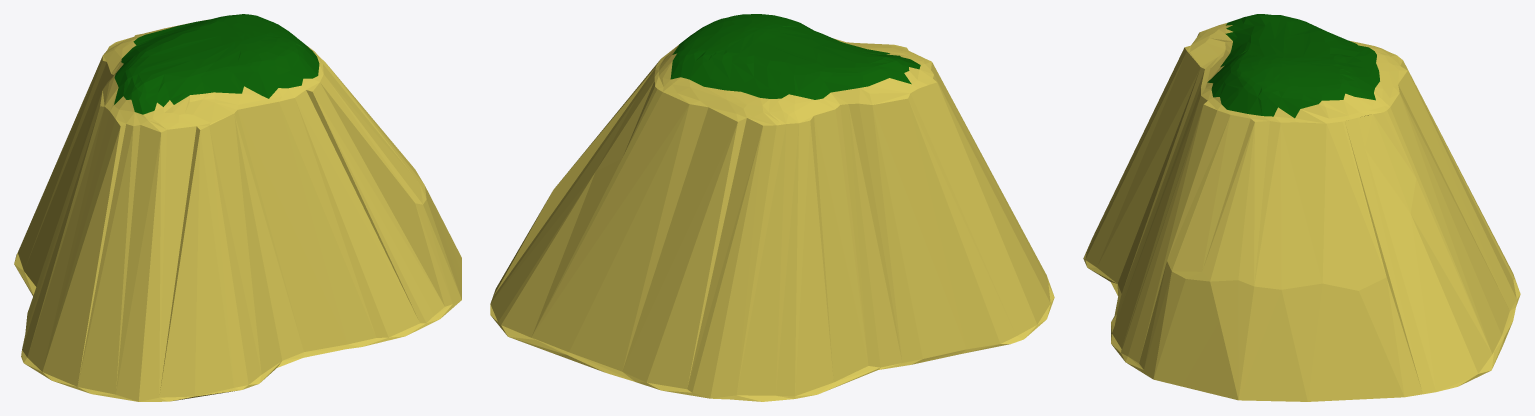
The model's file is Island6.FBX.
3 views of the same model, side by side, from view 1: azimuth 30°, elevation 25°; view 2: azimuth 150°, elevation 25°; view 3: azimuth 270°, elevation 25° (orthographic). The views are drawn at different scales.
Parts seen in each view (by area): view 1: Sphere008; view 2: Sphere008; view 3: Sphere008.
Part boxes in pixels (<box>): Sphere008: <box>14,14,461,401</box>; Sphere008: <box>490,14,1054,401</box>; Sphere008: <box>1083,14,1520,401</box>.
Bounding box in the file's own units: 647 × 571 × 358.
